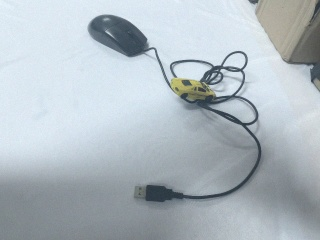box: (255, 1, 320, 65)
mouse: (87, 13, 149, 58)
toy_car: (170, 77, 215, 103)
